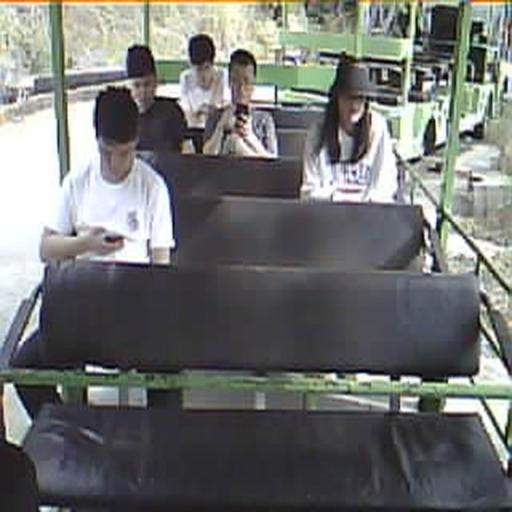persona: (39, 85, 177, 268), (300, 52, 401, 204), (106, 43, 196, 154), (202, 48, 279, 158), (178, 33, 228, 129)
